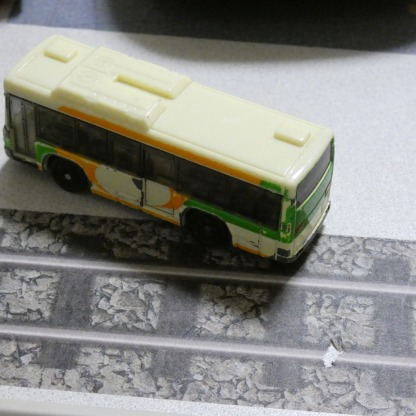car: (5, 35, 337, 266)
